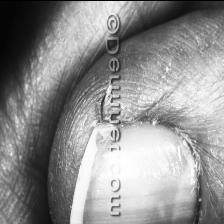Toxin: (94, 88, 110, 154)
